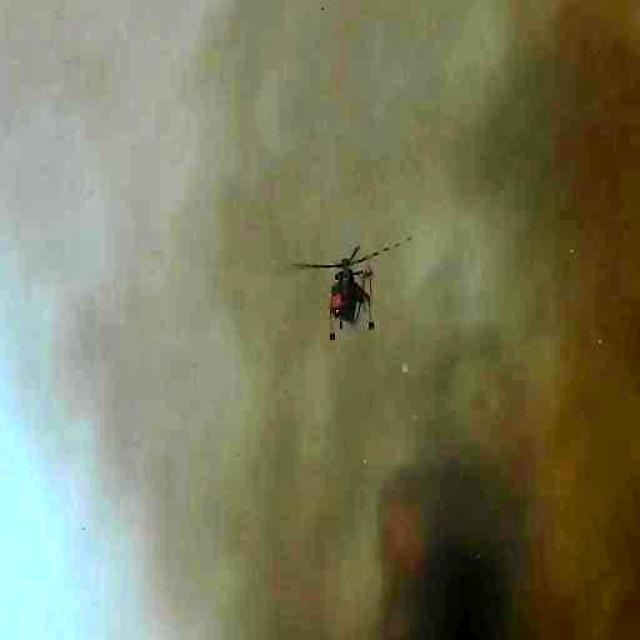drone: (292, 235, 415, 344)
